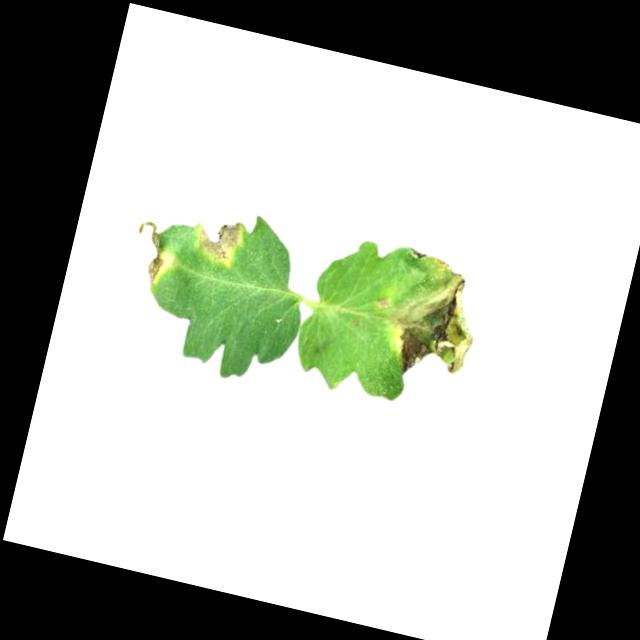Late_blight: (363, 243, 492, 388), (123, 217, 183, 293), (187, 210, 244, 266)
